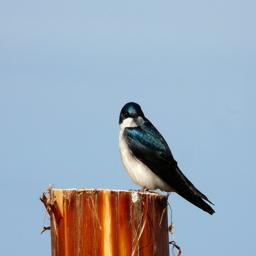Swallow: (118, 100, 217, 218)
